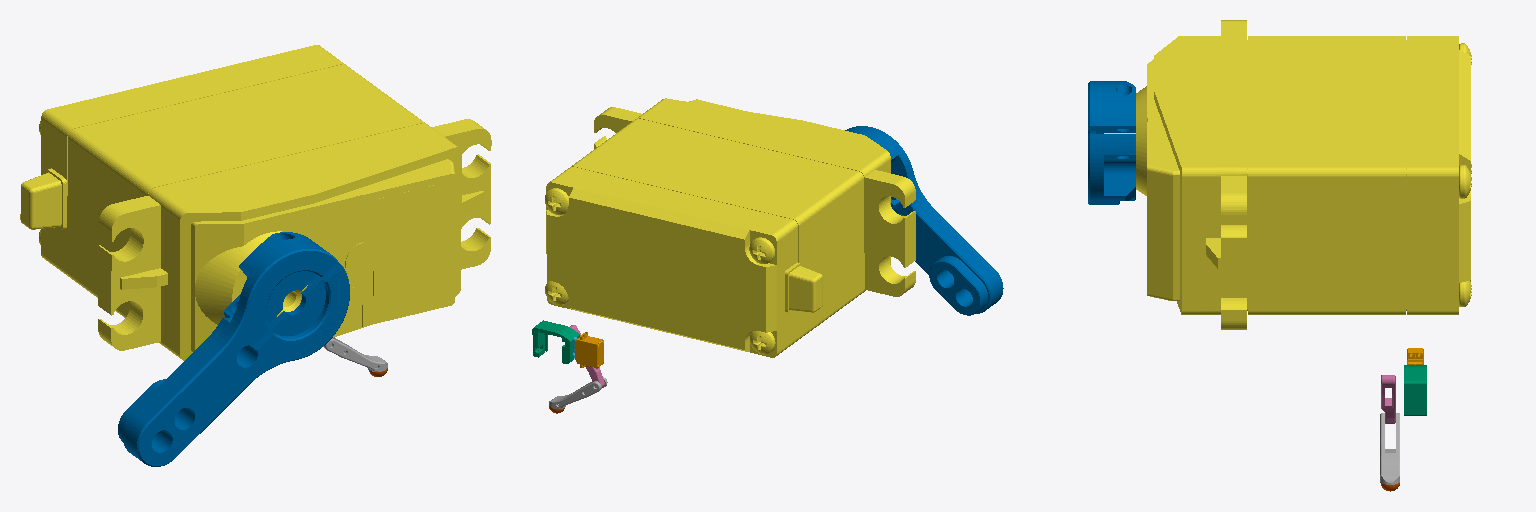
URDF robot description (simple_leg_pybullet):
<?xml version="1.0" ?>
<robot name="simple_leg_pybullet">

<material name="silver">
  <color rgba="0.700 0.700 0.700 1.000"/>
</material>

<link name="base_link">
  <inertial>
    <origin xyz="0.044185099378001774 0.013766139027551152 0.1463041433934786" rpy="0 0 0"/>
    <mass value="0.04604548230153534"/>
    <inertia ixx="8.017048864265852e-06" iyy="1.2595635604748315e-05" izz="7.68772676452631e-06" ixy="-2.887704723779361e-17" iyz="2.506052006537307e-15" ixz="2.5898326586038488e-08"/>
  </inertial>
  <visual>
    <origin xyz="0 0 0" rpy="0 0 0"/>
    <geometry>
      <mesh filename="meshes/base_link.stl" scale="0.001 0.001 0.001"/>
    </geometry>
    <material name="silver"/>
    <material/>
  </visual>
  <collision>
    <origin xyz="0 0 0" rpy="0 0 0"/>
    <geometry>
      <mesh filename="meshes/base_link.stl" scale="0.001 0.001 0.001"/>
    </geometry>
  </collision>
</link>

<link name="hip_servo_arm1">
  <inertial>
    <origin xyz="0.003408873275648719 -1.4639269367218086e-05 0.00786114353077158" rpy="0 0 0"/>
    <mass value="0.0032701003729527518"/>
    <inertia ixx="3.5429584528513607e-07" iyy="3.2642601211330493e-07" izz="4.505590662071308e-08" ixy="-2.6001808069200092e-11" iyz="4.05955679235774e-09" ixz="-3.5575540591688856e-09"/>
  </inertial>
  <visual>
    <origin xyz="-0.065722 -0.013766 -0.136395" rpy="0 0 0"/>
    <geometry>
      <mesh filename="meshes/hip_servo_arm1.stl" scale="0.001 0.001 0.001"/>
    </geometry>
    <material name="silver"/>
    <material/>
  </visual>
  <collision>
    <origin xyz="-0.065722 -0.013766 -0.136395" rpy="0 0 0"/>
    <geometry>
      <mesh filename="meshes/hip_servo_arm1.stl" scale="0.001 0.001 0.001"/>
    </geometry>
  </collision>
</link>

<link name="knee_servo_holder1">
  <inertial>
    <origin xyz="0.029112867057541444 0.0007342512183261922 0.01505536119753409" rpy="0 0 0"/>
    <mass value="0.03470303413377985"/>
    <inertia ixx="1.0238114845417443e-05" iyy="2.859304047357755e-05" izz="2.335625968764003e-05" ixy="-9.668646894346415e-08" iyz="1.8083210382636885e-07" ixz="-1.9403735519272092e-06"/>
  </inertial>
  <visual>
    <origin xyz="-0.071722 -0.013766 -0.136375" rpy="0 0 0"/>
    <geometry>
      <mesh filename="meshes/knee_servo_holder1.stl" scale="0.001 0.001 0.001"/>
    </geometry>
    <material name="silver"/>
    <material/>
  </visual>
  <collision>
    <origin xyz="-0.071722 -0.013766 -0.136375" rpy="0 0 0"/>
    <geometry>
      <mesh filename="meshes/knee_servo_holder1.stl" scale="0.001 0.001 0.001"/>
    </geometry>
  </collision>
</link>

<link name="knee_servo1">
  <inertial>
    <origin xyz="0.008450313064643972 -0.026295800399069355 -0.0027954725770833744" rpy="0 0 0"/>
    <mass value="0.04604548230153534"/>
    <inertia ixx="7.687962796281648e-06" iyy="8.016869330743906e-06" izz="1.2595579106517091e-05" ixy="-2.7014941100214802e-08" iyz="9.166077853596955e-11" ixz="1.6651571604973762e-08"/>
  </inertial>
  <visual>
    <origin xyz="-0.096344 -0.042832 -0.157979" rpy="0 0 0"/>
    <geometry>
      <mesh filename="meshes/knee_servo1.stl" scale="0.001 0.001 0.001"/>
    </geometry>
    <material name="silver"/>
    <material/>
  </visual>
  <collision>
    <origin xyz="-0.096344 -0.042832 -0.157979" rpy="0 0 0"/>
    <geometry>
      <mesh filename="meshes/knee_servo1.stl" scale="0.001 0.001 0.001"/>
    </geometry>
  </collision>
</link>

<link name="knee_servo_arm1">
  <inertial>
    <origin xyz="-0.006380329777508589 -0.0033823794648786248 -0.0046119401065257415" rpy="0 0 0"/>
    <mass value="0.0032701003729527518"/>
    <inertia ixx="1.449556706211477e-07" iyy="3.543164263377453e-07" izz="2.2650566704396417e-07" ixy="-2.0587646704018778e-09" iyz="-1.4333017412733568e-09" ixz="-1.347184405892763e-07"/>
  </inertial>
  <visual>
    <origin xyz="-0.094959 0.005034 -0.155217" rpy="0 0 0"/>
    <geometry>
      <mesh filename="meshes/knee_servo_arm1.stl" scale="0.001 0.001 0.001"/>
    </geometry>
    <material name="silver"/>
    <material/>
  </visual>
  <collision>
    <origin xyz="-0.094959 0.005034 -0.155217" rpy="0 0 0"/>
    <geometry>
      <mesh filename="meshes/knee_servo_arm1.stl" scale="0.001 0.001 0.001"/>
    </geometry>
  </collision>
</link>

<link name="leg_foot1Component161">
  <inertial>
    <origin xyz="-0.004047748981101135 -4.765341062277009e-05 0.041632138897485876" rpy="0 0 0"/>
    <mass value="0.05068893861578388"/>
    <inertia ixx="2.8627829248099098e-05" iyy="2.8848623228453483e-05" izz="4.328139291197449e-06" ixy="-8.531930034555977e-09" iyz="-8.33273852910899e-08" ixz="2.689289817810322e-06"/>
  </inertial>
  <visual>
    <origin xyz="-0.118736 0.017434 -0.026555" rpy="0 0 0"/>
    <geometry>
      <mesh filename="meshes/leg_foot1Component161.stl" scale="0.001 0.001 0.001"/>
    </geometry>
    <material name="silver"/>
    <material/>
  </visual>
  <collision>
    <origin xyz="-0.118736 0.017434 -0.026555" rpy="0 0 0"/>
    <geometry>
      <mesh filename="meshes/leg_foot1Component161.stl" scale="0.001 0.001 0.001"/>
    </geometry>
  </collision>
</link>

<link name="leg_tibia1">
  <inertial>
    <origin xyz="-0.026929521704993173 -0.00819083588855945 -0.038738944463850025" rpy="0 0 0"/>
    <mass value="0.016745594670500637"/>
    <inertia ixx="1.071905304072374e-05" iyy="1.5337512544608784e-05" izz="5.637925030047014e-06" ixy="1.661466846802254e-07" iyz="2.460659377263863e-07" ixz="-6.933535667269774e-06"/>
  </inertial>
  <visual>
    <origin xyz="-0.094959 0.011034 -0.155217" rpy="0 0 0"/>
    <geometry>
      <mesh filename="meshes/leg_tibia1.stl" scale="0.001 0.001 0.001"/>
    </geometry>
    <material name="silver"/>
    <material/>
  </visual>
  <collision>
    <origin xyz="-0.094959 0.011034 -0.155217" rpy="0 0 0"/>
    <geometry>
      <mesh filename="meshes/leg_tibia1.stl" scale="0.001 0.001 0.001"/>
    </geometry>
  </collision>
</link>

<link name="leg_ankle1">
  <inertial>
    <origin xyz="0.03923394057235093 0.0065998081894450625 -0.02698059517291853" rpy="0 0 0"/>
    <mass value="0.022209898104400553"/>
    <inertia ixx="7.105077866646786e-06" iyy="1.814216094624772e-05" izz="1.415137046565195e-05" ixy="9.401919155461189e-11" iyz="-2.0899198913682513e-10" ixz="7.934369953340676e-06"/>
  </inertial>
  <visual>
    <origin xyz="-0.045285 0.024034 -0.078484" rpy="0 0 0"/>
    <geometry>
      <mesh filename="meshes/leg_ankle1.stl" scale="0.001 0.001 0.001"/>
    </geometry>
    <material name="silver"/>
    <material/>
  </visual>
  <collision>
    <origin xyz="-0.045285 0.024034 -0.078484" rpy="0 0 0"/>
    <geometry>
      <mesh filename="meshes/leg_ankle1.stl" scale="0.001 0.001 0.001"/>
    </geometry>
  </collision>
</link>

<joint name="hip_joint" type="continuous">
  <origin xyz="0.065722 0.013766 0.136395" rpy="0 0 0"/>
  <parent link="base_link"/>
  <child link="hip_servo_arm1"/>
  <axis xyz="-0.999994 0.0 0.003393"/>
</joint>
<transmission name="hip_joint_tran">
  <type>transmission_interface/SimpleTransmission</type>
  <joint name="hip_joint">
    <hardwareInterface>PositionJointInterface</hardwareInterface>
  </joint>
  <actuator name="hip_joint_actr">
    <hardwareInterface>PositionJointInterface</hardwareInterface>
    <mechanicalReduction>1</mechanicalReduction>
  </actuator>
</transmission>

<joint name="Rigid_24" type="fixed">
  <origin xyz="0.006 0.0 -2e-05" rpy="0 0 0"/>
  <parent link="hip_servo_arm1"/>
  <child link="knee_servo_holder1"/>
</joint>

<joint name="Rigid_25" type="fixed">
  <origin xyz="0.024622 0.029066 0.021604" rpy="0 0 0"/>
  <parent link="knee_servo_holder1"/>
  <child link="knee_servo1"/>
</joint>

<joint name="knee_joint" type="continuous">
  <origin xyz="-0.001385 -0.047866 -0.002762" rpy="0 0 0"/>
  <parent link="knee_servo1"/>
  <child link="knee_servo_arm1"/>
  <axis xyz="0.0 1.0 -0.0"/>
</joint>
<transmission name="knee_joint_tran">
  <type>transmission_interface/SimpleTransmission</type>
  <joint name="knee_joint">
    <hardwareInterface>PositionJointInterface</hardwareInterface>
  </joint>
  <actuator name="knee_joint_actr">
    <hardwareInterface>PositionJointInterface</hardwareInterface>
    <mechanicalReduction>1</mechanicalReduction>
  </actuator>
</transmission>

<joint name="Rigid_35" type="fixed">
  <origin xyz="0.073451 0.0066 -0.051929" rpy="0 0 0"/>
  <parent link="leg_ankle1"/>
  <child link="leg_foot1Component161"/>
</joint>

<joint name="Rigid_37" type="fixed">
  <origin xyz="0.0 -0.006 0.0" rpy="0 0 0"/>
  <parent link="knee_servo_arm1"/>
  <child link="leg_tibia1"/>
</joint>

<joint name="tibia_joint" type="continuous">
  <origin xyz="-0.049674 -0.013 -0.076733" rpy="0 0 0"/>
  <parent link="leg_tibia1"/>
  <child link="leg_ankle1"/>
  <axis xyz="0.0 1.0 -0.0"/>
</joint>
<transmission name="tibia_joint_tran">
  <type>transmission_interface/SimpleTransmission</type>
  <joint name="tibia_joint">
    <hardwareInterface>PositionJointInterface</hardwareInterface>
  </joint>
  <actuator name="tibia_joint_actr">
    <hardwareInterface>PositionJointInterface</hardwareInterface>
    <mechanicalReduction>1</mechanicalReduction>
  </actuator>
</transmission>

</robot>

--- What the picture shows (computed from the rendered views, not written in the file) ---
3 views of the same robot in one strip: view 1: azimuth 30°, elevation 25°; view 2: azimuth 150°, elevation 25°; view 3: azimuth 270°, elevation 25° (orthographic).
Robot: simple_leg_pybullet — 8 links, 7 joints (3 continuous, 4 fixed); root link base_link; default pose: every joint at zero.
Visible links, largest first — view 1: knee_servo1, knee_servo_arm1, leg_ankle1; view 2: knee_servo1, knee_servo_arm1, knee_servo_holder1, base_link, leg_ankle1; view 3: knee_servo1, knee_servo_arm1, knee_servo_holder1, leg_ankle1, leg_tibia1.
Link boxes in pixels (x1,y1,x2,y2): knee_servo1: (20, 45, 491, 360); knee_servo_arm1: (118, 232, 349, 466); leg_ankle1: (323, 338, 387, 371); knee_servo1: (545, 98, 915, 357); knee_servo_arm1: (845, 126, 1003, 315); knee_servo_holder1: (532, 320, 579, 363); base_link: (575, 332, 603, 368); leg_ankle1: (549, 377, 607, 408); knee_servo1: (1104, 20, 1471, 329); knee_servo_arm1: (1088, 81, 1135, 204); knee_servo_holder1: (1404, 365, 1426, 415); leg_ankle1: (1380, 413, 1399, 484); leg_tibia1: (1381, 375, 1395, 423).
Bounding box of the posed robot: 0.6015 × 0.4791 × 0.429 m (x, y, z).
Meshes: 8 distinct files referenced, 8 mesh visuals loaded (8 binary STL).